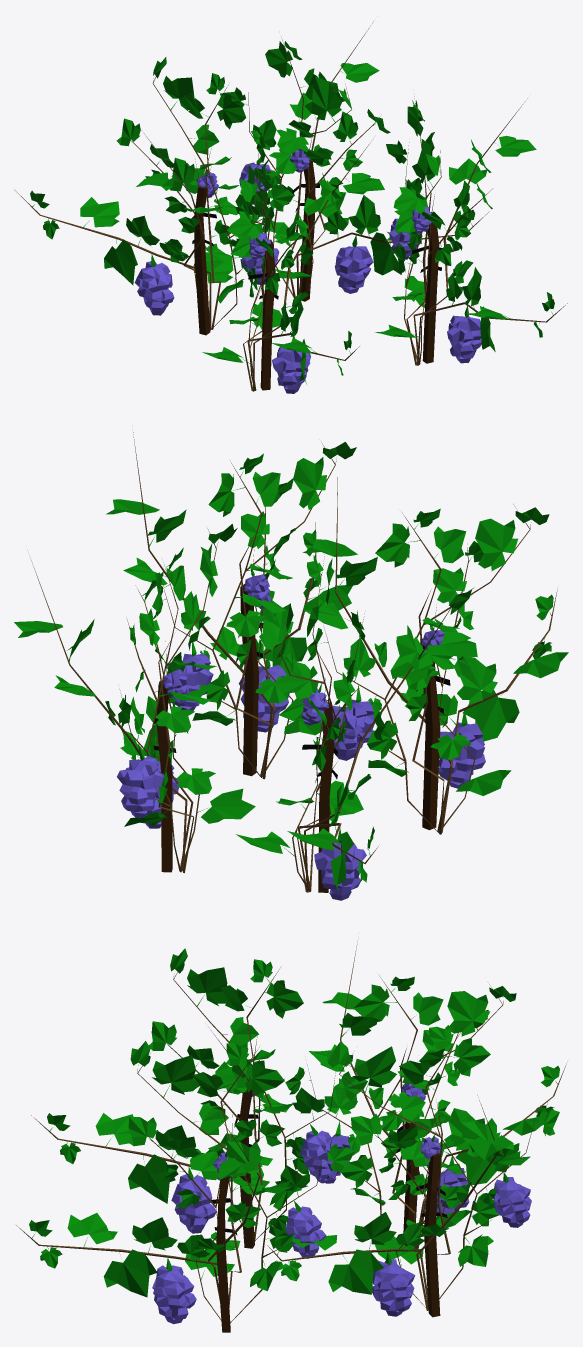
The model's file is grape.glb.
3 views of the same model, one above another, from view 1: azimuth 30°, elevation 25°; view 2: azimuth 150°, elevation 25°; view 3: azimuth 270°, elevation 25° (orthographic). The views are drawn at different scales.
Visible parts, largest first — view 1: grape; view 2: grape; view 3: grape.
Part boxes in pixels (box(x1,y1,x2,y2)): grape: box(14, 21, 567, 393); grape: box(14, 432, 568, 900); grape: box(16, 938, 566, 1332).
Size of the model in its own units: 3.46 by 2.41 by 4.15.
